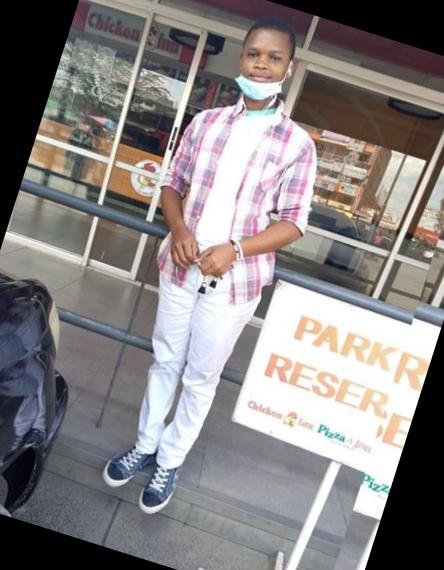mask_weared_incorrect: (229, 36, 297, 112)
